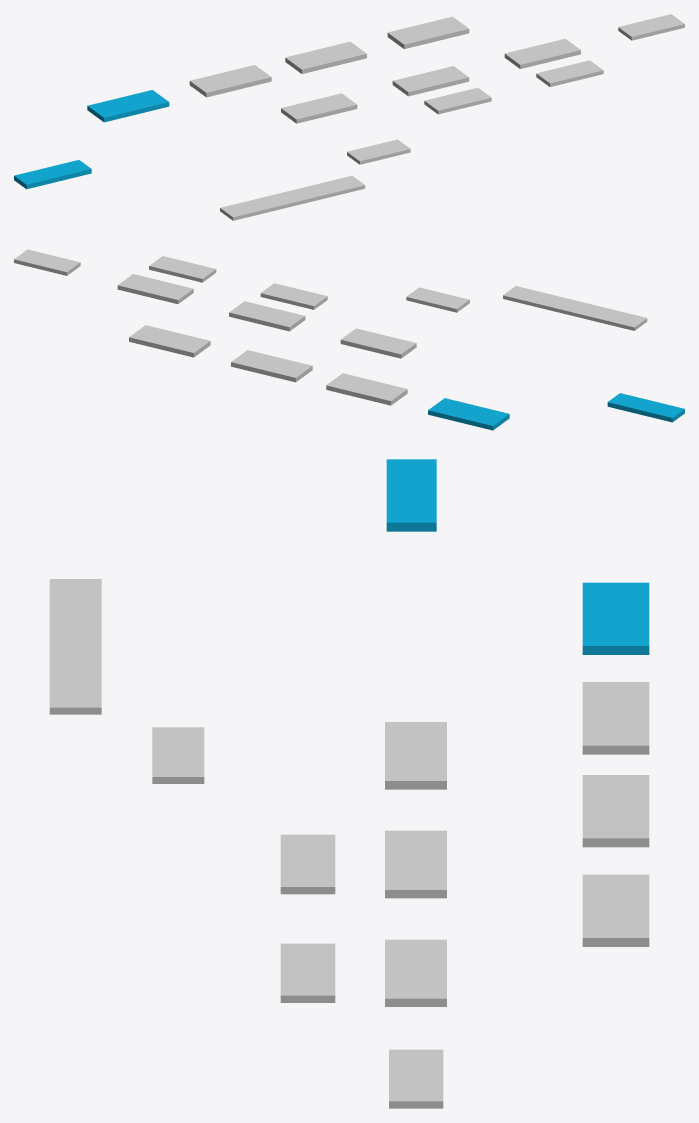
The model's file is sxema.fbx.
3 views of the same model, one above another, from view 1: azimuth 30°, elevation 25°; view 2: azimuth 150°, elevation 25°; view 3: azimuth 270°, elevation 25° (orthographic). The views are drawn at different scales.
Visible parts, largest first — view 1: Cube.011, Cube.001, Cube.003, Cube.002, Cube.004, Cube.006, Cube.005, Cube.007, Cube, Cube.009, Cube.008, Cube.012 (+1 smaller); view 2: Cube.011, Cube.002, Cube.004, Cube.001, Cube.003, Cube.007, Cube.005, Cube.006, Cube, Cube.008, Cube.009, Cube.012 (+1 smaller); view 3: Cube.011, Cube.002, Cube.001, Cube.003, Cube.004, Cube.006, Cube.005, Cube.007, Cube, Cube.009, Cube.008, Cube.012 (+1 smaller).
Part boxes in pixels (box(x1,y1,x2,y2)): Cube.011: box(220, 175, 365, 220); Cube.001: box(87, 90, 169, 122); Cube.003: box(387, 16, 469, 49); Cube.002: box(189, 65, 271, 97); Cube.004: box(285, 41, 366, 73); Cube.006: box(392, 66, 469, 96); Cube.005: box(281, 93, 357, 123); Cube.007: box(504, 38, 580, 68); Cube: box(14, 160, 91, 189); Cube.009: box(424, 87, 491, 114); Cube.008: box(536, 60, 603, 86); Cube.012: box(618, 14, 684, 40); Cube.011: box(503, 286, 647, 330); Cube.002: box(326, 373, 407, 405); Cube.004: box(231, 350, 312, 382); Cube.001: box(428, 398, 509, 430); Cube.003: box(129, 325, 210, 357); Cube.007: box(117, 274, 193, 303); Cube.005: box(340, 328, 416, 358); Cube.006: box(229, 301, 305, 331); Cube: box(607, 393, 684, 422); Cube.008: box(149, 256, 216, 282); Cube.009: box(260, 283, 327, 309); Cube.012: box(14, 249, 80, 275); Cube.011: box(49, 579, 101, 714); Cube.002: box(582, 682, 649, 754); Cube.001: box(582, 582, 649, 654); Cube.003: box(582, 874, 649, 946); Cube.004: box(582, 775, 649, 847); Cube.006: box(385, 830, 446, 898); Cube.005: box(385, 722, 446, 789); Cube.007: box(385, 939, 446, 1006); Cube: box(386, 459, 436, 531); Cube.009: box(280, 834, 335, 894); Cube.008: box(280, 943, 335, 1002); Cube.012: box(389, 1049, 443, 1108).
Size of the model in its own units: 6077 by 40 by 2401.
